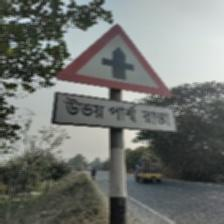Crossroad: (49, 21, 176, 135)
